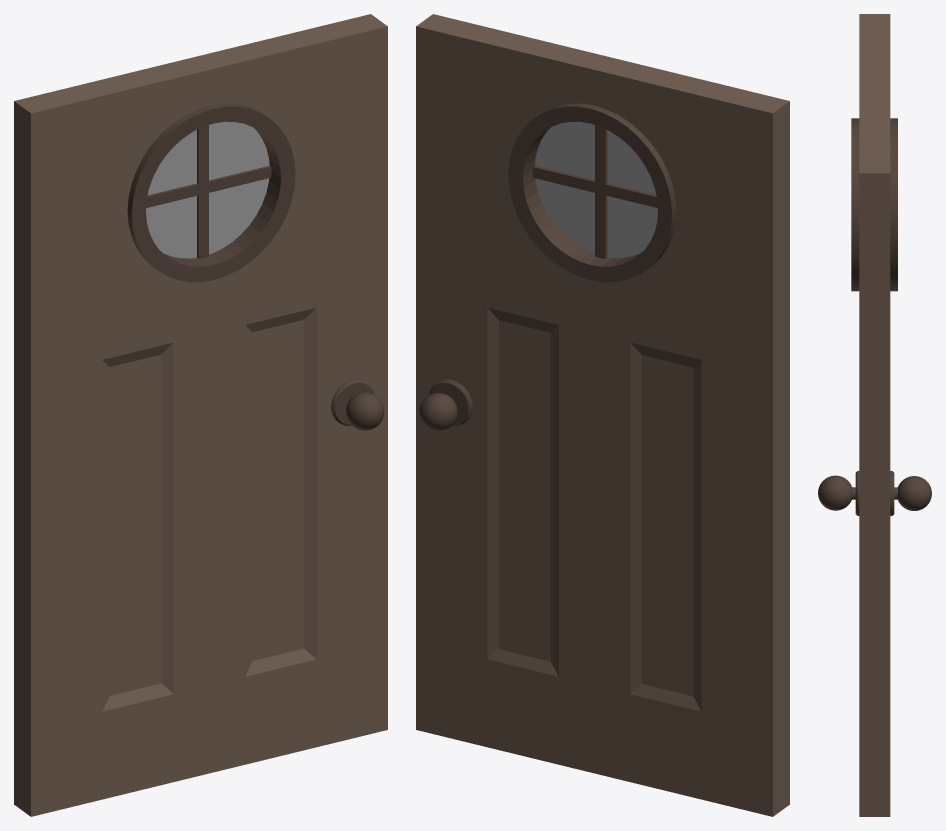
Rendered from door_brown.fbx.
3 views of the same model, side by side, from view 1: azimuth 30°, elevation 25°; view 2: azimuth 150°, elevation 25°; view 3: azimuth 270°, elevation 25° (orthographic). The views are drawn at different scales.
Parts seen in each view (by area): view 1: pCube3, pCylinder2, pCylinder3, polySurface3, pCube5, pCube4; view 2: pCube3, pCylinder2, pCylinder3, polySurface1, pCube5, pCube4; view 3: pCube3, pCylinder2, polySurface3, polySurface1.
Boxes of the visible parts, <box> form: pCube3: <box>14,14,387,816</box>; pCylinder2: <box>127,103,295,282</box>; pCylinder3: <box>146,121,269,258</box>; polySurface3: <box>331,379,384,430</box>; pCube5: <box>146,165,271,207</box>; pCube4: <box>197,125,208,258</box>; pCube3: <box>416,14,789,816</box>; pCylinder2: <box>508,103,676,282</box>; pCylinder3: <box>535,121,657,257</box>; polySurface1: <box>419,379,472,431</box>; pCube5: <box>532,165,657,207</box>; pCube4: <box>595,125,607,258</box>; pCube3: <box>859,14,890,816</box>; pCylinder2: <box>851,118,897,291</box>; polySurface3: <box>818,471,859,515</box>; polySurface1: <box>890,471,931,515</box>.
Bounding box in the file's own units: 2.03 × 3.83 × 0.6147.
